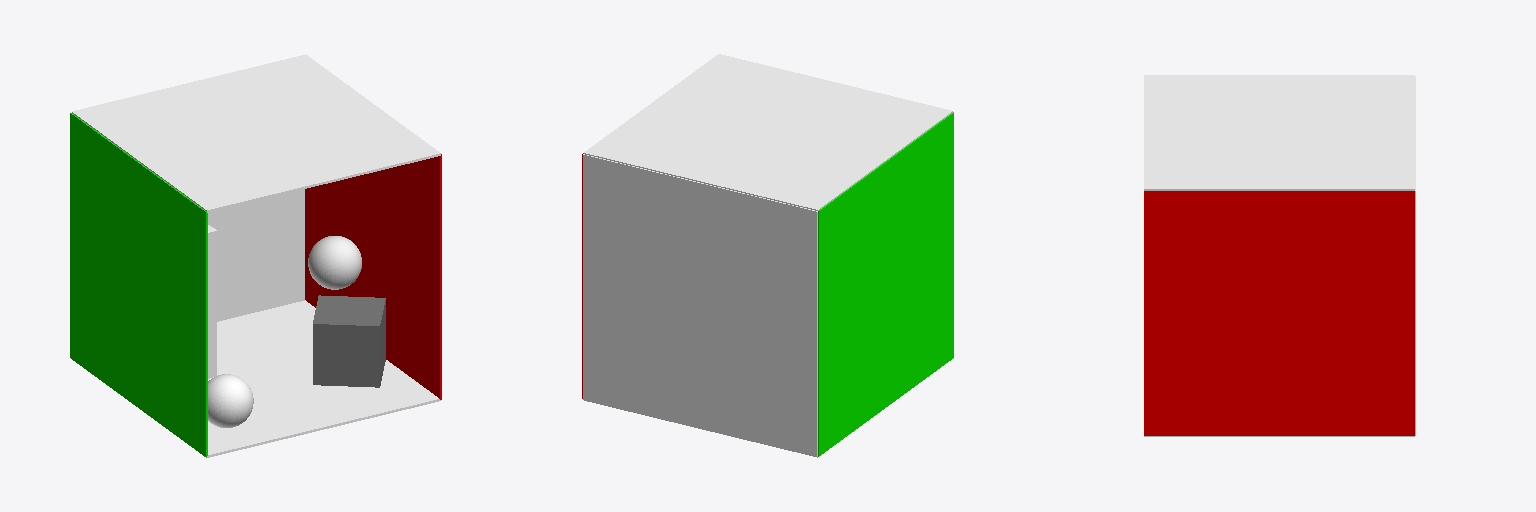
File: cornell.obj
3 renders of one model, left to right at view 1: azimuth 30°, elevation 25°; view 2: azimuth 150°, elevation 25°; view 3: azimuth 270°, elevation 25°, orthographic.
Visible parts, largest first — view 1: cube_instance_5, cube_instance_3, cube_instance_6, cube_instance_2, cube_instance, cube_instance_14, sphere_instance, sphere_instance_22, cube_instance_16; view 2: cube_instance, cube_instance_5, cube_instance_3; view 3: cube_instance_6, cube_instance_3.
Part boxes in pixels (x1,y1,x2,y2): cube_instance_5: (70, 113, 207, 456); cube_instance_3: (72, 54, 440, 212); cube_instance_6: (305, 154, 441, 399); cube_instance_2: (77, 300, 440, 457); cube_instance: (71, 112, 304, 321); cube_instance_14: (313, 295, 385, 387); sphere_instance: (308, 236, 361, 289); sphere_instance_22: (208, 374, 253, 427); cube_instance_16: (208, 225, 216, 378); cube_instance: (583, 154, 817, 456); cube_instance_5: (818, 112, 953, 456); cube_instance_3: (584, 54, 952, 210); cube_instance_6: (1144, 191, 1414, 435); cube_instance_3: (1144, 75, 1414, 190).
Bounding box in the file's own units: 10.1 × 10.1 × 10.05.